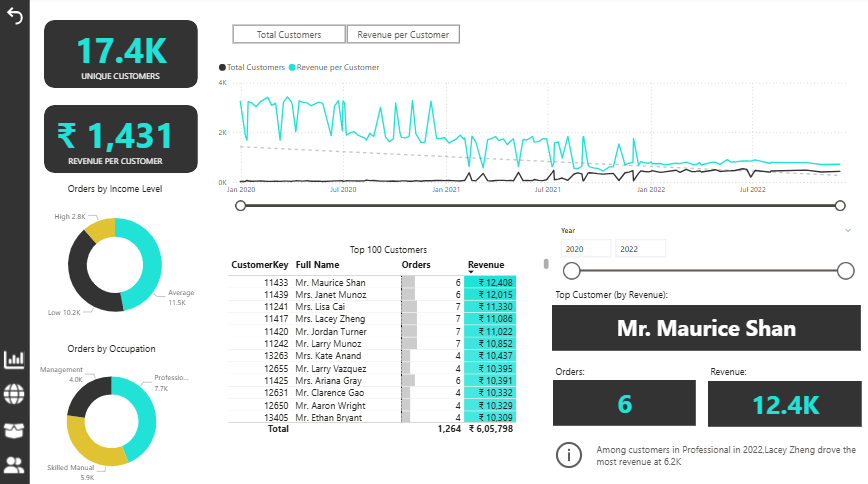

What the dashboard file says about the page in this screenshot:
{"tool":"powerbi","page":{"name":"Customer Detail","canvas":[1280,720],"ordinal":3},"visuals":[{"type":"shape","box":[0,0,45.4,720],"z":0},{"type":"actionButton","box":[2.9,512.2,45.4,38],"z":0,"group":"g1"},{"type":"shape","box":[65.9,33.7,225.4,99.5],"z":1000},{"type":"actionButton","box":[2.9,562,45.4,38],"z":1000,"group":"g1"},{"type":"actionButton","box":[2.9,616.1,45.4,38],"z":2000,"group":"g1"},{"type":"shape","box":[65.9,158,225.4,99.5],"z":2000},{"type":"card","fields":{"Values":["Measure Table.Total Customers"]},"box":[73.2,10.2,209.3,144.9],"z":3000},{"type":"actionButton","box":[2.9,665.9,46.8,38],"z":3000,"group":"g1"},{"type":"card","fields":{"Values":["Measure Table.Average Revenue per Customer"]},"box":[65.9,134.6,209.3,144.9],"z":4000},{"type":"lineChart","fields":{"Y":["Measure Table.Total Customers","Measure Table.Average Revenue per Customer"],"Category":["Calendar Lookup.Date Hierarchy.Start of Year","Calendar Lookup.Date Hierarchy.Start of Month","Calendar Lookup.Date Hierarchy.Start of Week","Calendar Lookup.Date Hierarchy.Date"]},"box":[316.1,83.4,939.5,232.7],"z":5000},{"type":"donutChart","title":"Orders by Income Level","fields":{"Category":["Customer Lookup.Income Level"],"Y":["Measure Table.Total Orders"]},"box":[46.8,270.7,245.9,225.4],"z":6000},{"type":"donutChart","title":"Orders by Occupation","fields":{"Y":["Measure Table.Total Orders"],"Category":["Customer Lookup.Occupation"]},"box":[45.4,504.9,238.5,215.1],"z":7000},{"type":"tableEx","title":"Top 100 Customers","fields":{"Values":["Customer Lookup.CustomerKey","Customer Lookup.Full Name","Measure Table.Total Orders","Measure Table.Total Revenue"]},"box":[329.3,360,481.5,285.4],"z":8000},{"type":"card","fields":{"Values":["Customer Lookup.Full Name (Customer Detail)"]},"box":[809.3,450.7,452.2,67.3],"z":9000},{"type":"card","fields":{"Values":["Measure Table.Total Orders (Customer Detail)"]},"box":[810.7,560.5,209.3,67.3],"z":10000},{"type":"card","fields":{"Values":["Measure Table.Total Revenue (Customer Detail)"]},"box":[1037.6,562,225.4,67.3],"z":11000},{"type":"textbox","box":[809.3,421.5,185.9,36.6],"z":12000},{"type":"textbox","box":[1036.1,534.1,185.9,36.6],"z":13000},{"type":"textbox","box":[809.3,534.1,185.9,36.6],"z":14000},{"type":"slicer","fields":{"Values":["Calendar Lookup.Year"]},"box":[809.3,330.7,450.7,90.7],"z":15000},{"type":"actionButton","box":[809.3,645.4,453.7,49.8],"z":16000},{"type":"actionButton","box":[5.9,8.8,35.1,36.6],"z":17000},{"type":"group","id":"g1","title":"Navigation buttons ","box":[2.9,512.2,46.8,191.7],"z":18000},{"type":"slicer","fields":{"Values":["Customer Metric Selection.Customer Metric Selection"]},"box":[316.1,33.7,382,41],"z":19001}]}

Visuals, with their boxes in screenshot pixels (x1, y1, x2, y2), scaled from the page's 1280x720 canvas onto the 868x484 screenshot:
shape: detection(0, 0, 31, 483)
actionButton: detection(2, 344, 33, 370)
shape: detection(45, 23, 198, 90)
actionButton: detection(2, 378, 33, 403)
actionButton: detection(2, 414, 33, 440)
shape: detection(45, 106, 198, 173)
card - Measure Table.Total Customers: detection(50, 7, 192, 104)
actionButton: detection(2, 448, 34, 473)
card - Measure Table.Average Revenue per Customer: detection(45, 90, 187, 188)
lineChart - Measure Table.Total Customers x Measure Table.Average Revenue per Customer: detection(214, 56, 851, 212)
"Orders by Income Level" donutChart: detection(32, 182, 198, 333)
"Orders by Occupation" donutChart: detection(31, 339, 193, 483)
"Top 100 Customers" tableEx: detection(223, 242, 550, 434)
card - Customer Lookup.Full Name (Customer Detail): detection(549, 303, 855, 348)
card - Measure Table.Total Orders (Customer Detail): detection(550, 377, 692, 422)
card - Measure Table.Total Revenue (Customer Detail): detection(704, 378, 856, 423)
textbox: detection(549, 283, 675, 308)
textbox: detection(703, 359, 829, 384)
textbox: detection(549, 359, 675, 384)
slicer - Calendar Lookup.Year: detection(549, 222, 854, 283)
actionButton: detection(549, 434, 856, 467)
actionButton: detection(4, 6, 28, 31)
"Navigation buttons " group: detection(2, 344, 34, 473)
slicer - Customer Metric Selection.Customer Metric Selection: detection(214, 23, 473, 50)
